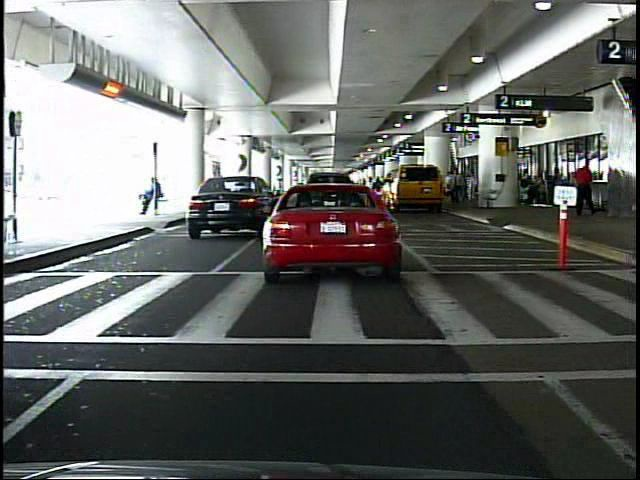person: (629, 121, 637, 298), (575, 158, 594, 217)
